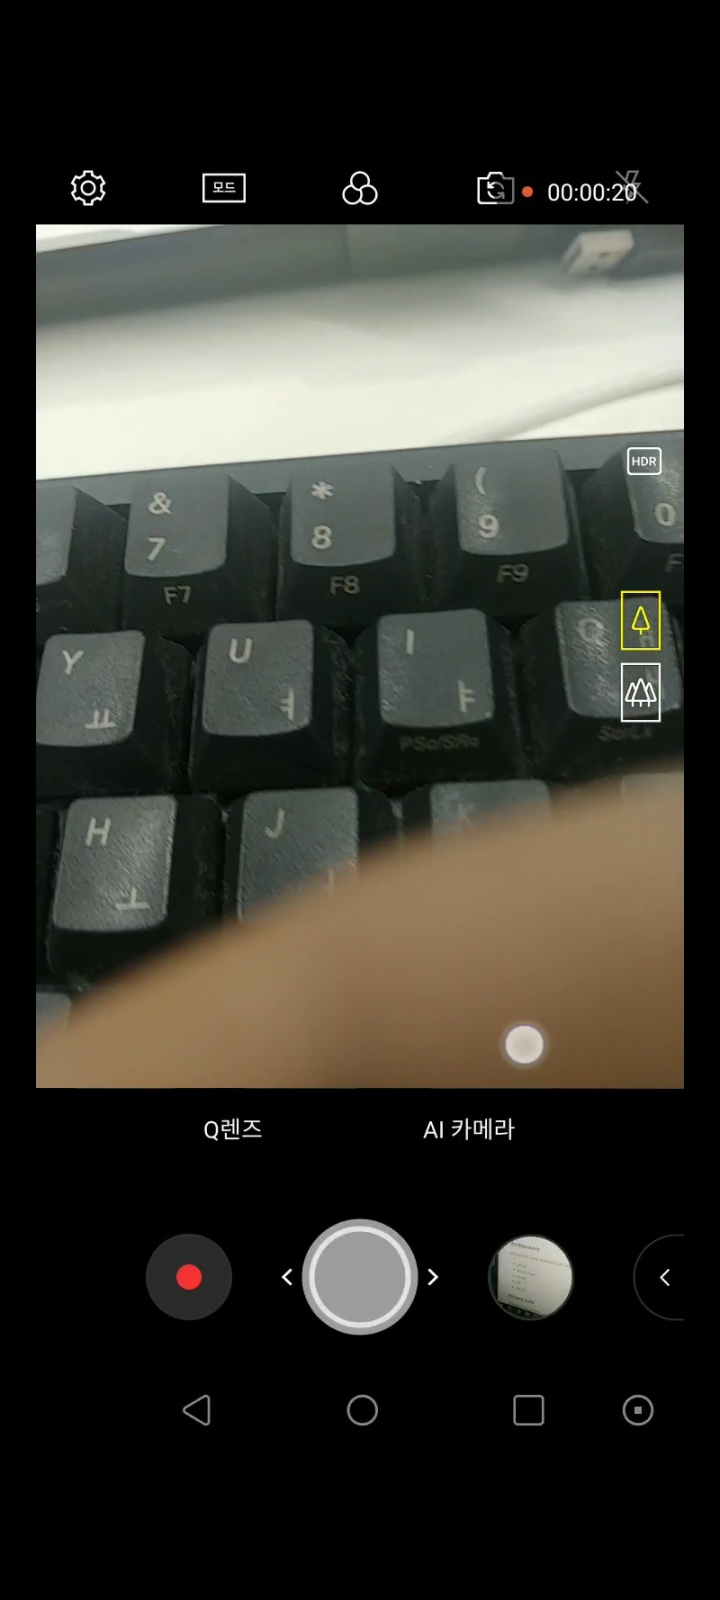Cursor: (503, 1023, 548, 1068)
